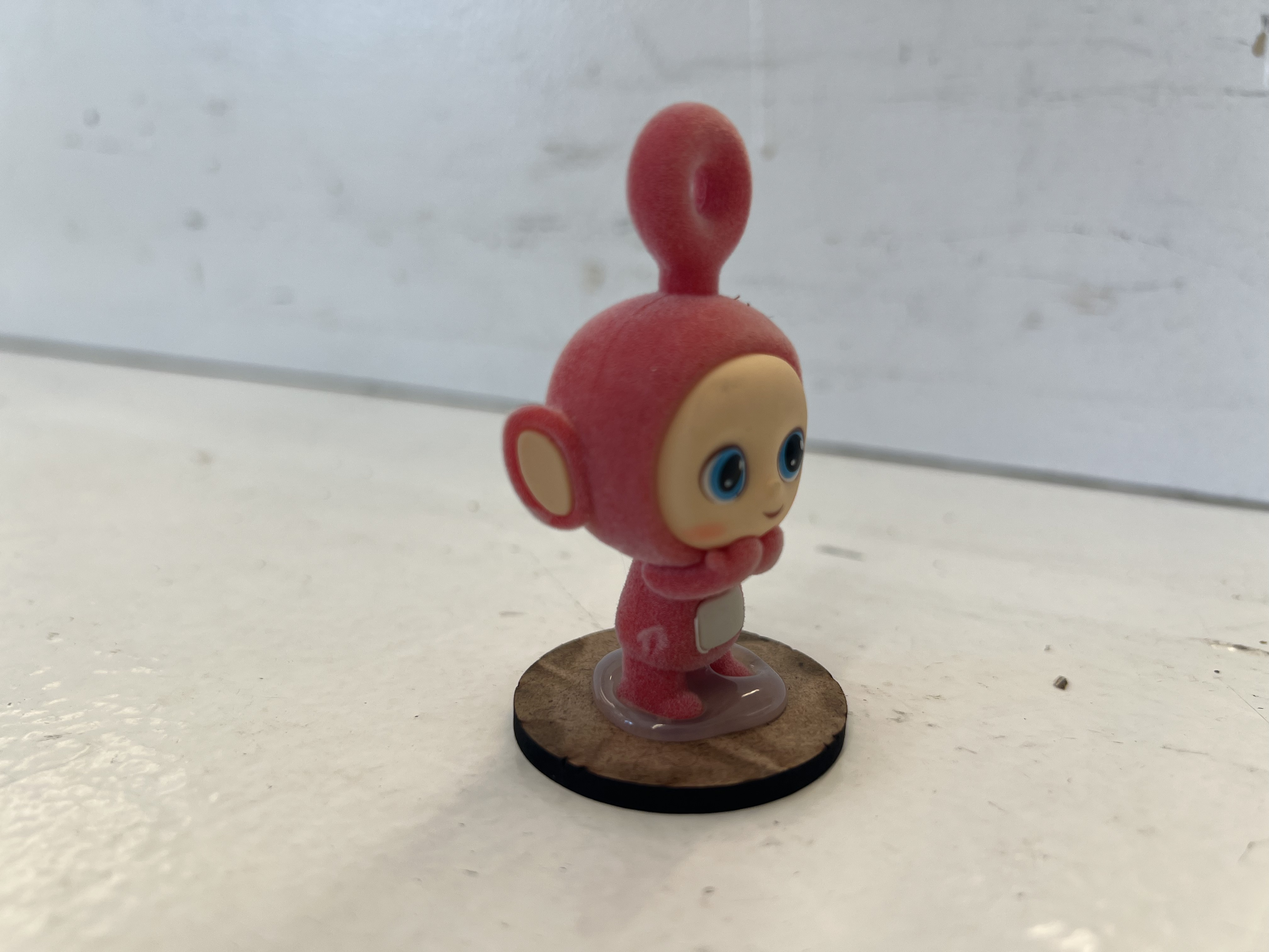teletubby: (503, 103, 807, 721)
